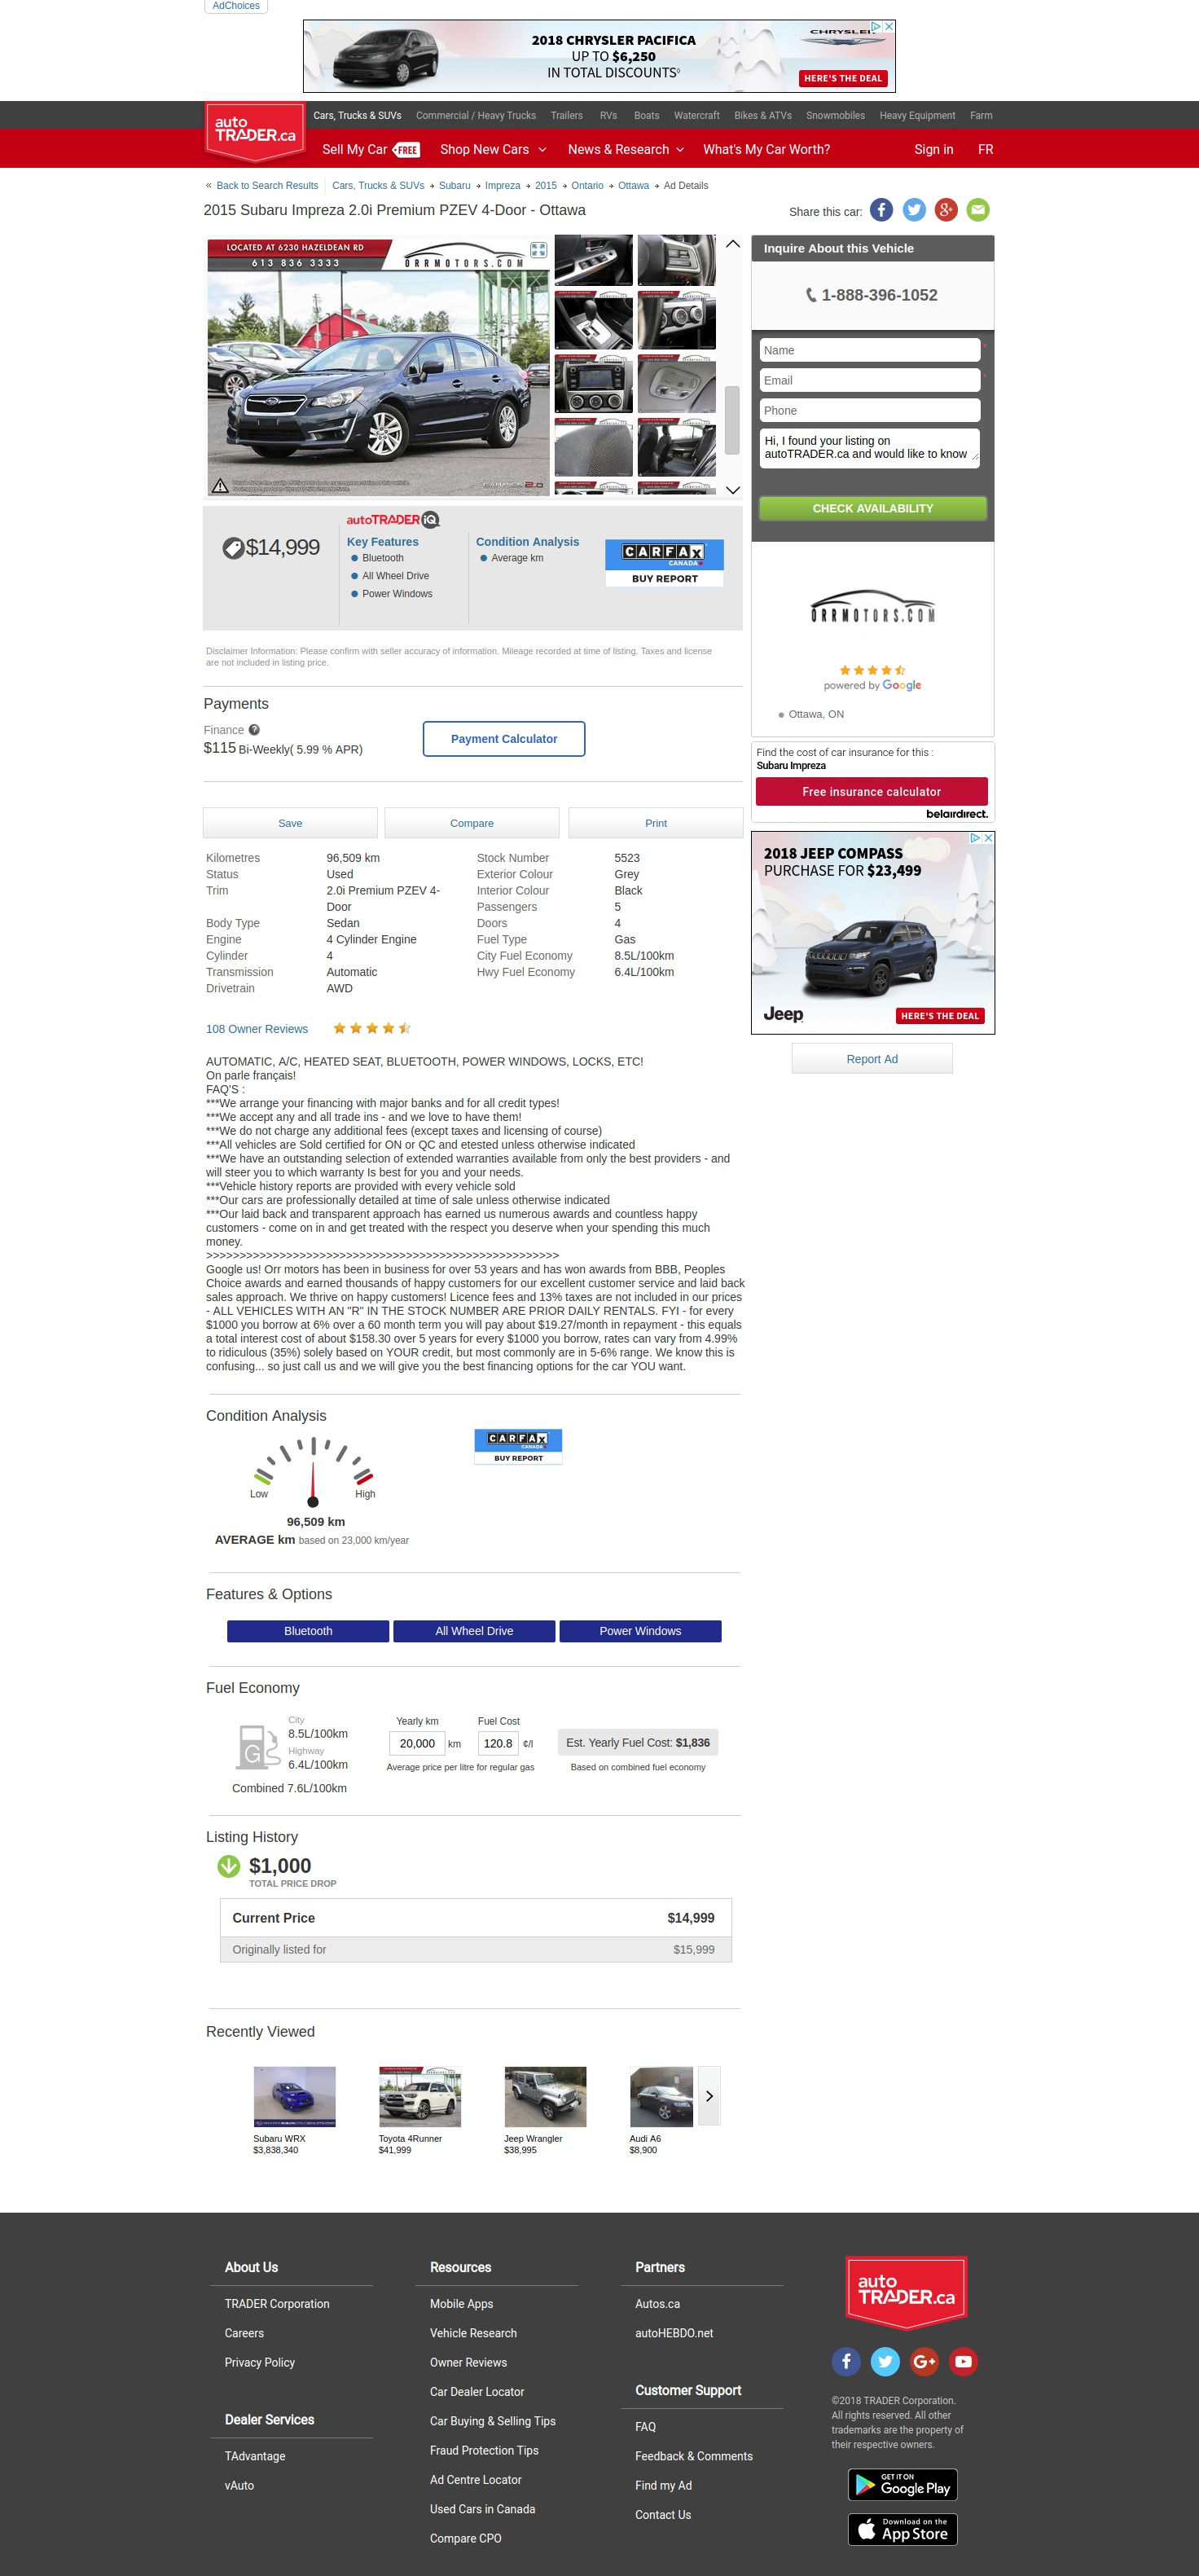car: (724, 486, 742, 496)
